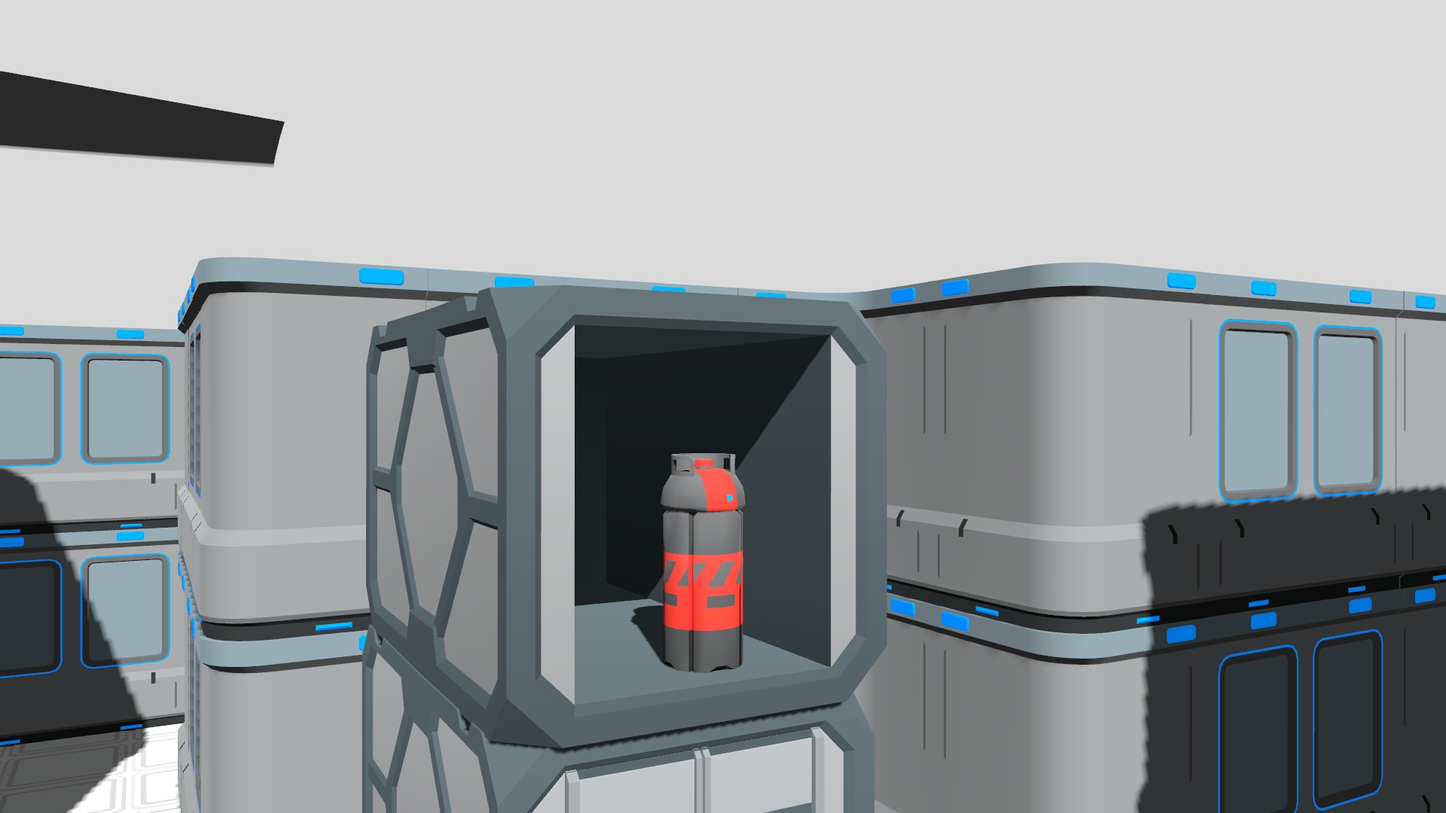red_barrel: (660, 448, 747, 679)
